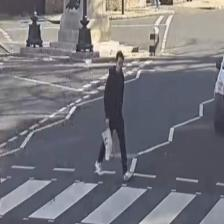person: (95, 50, 133, 181)
